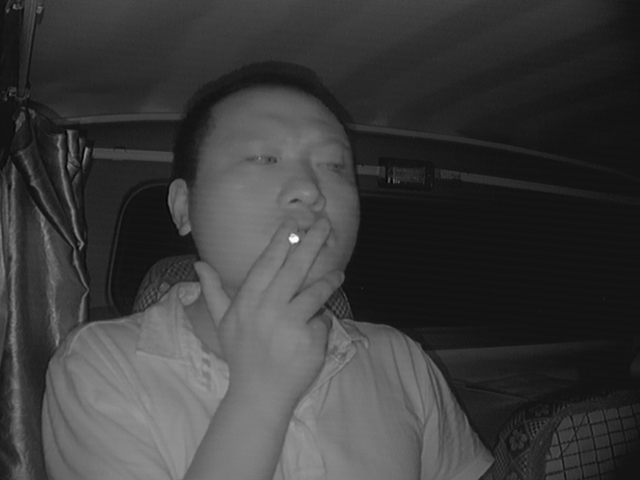hand: (255, 223, 339, 351)
